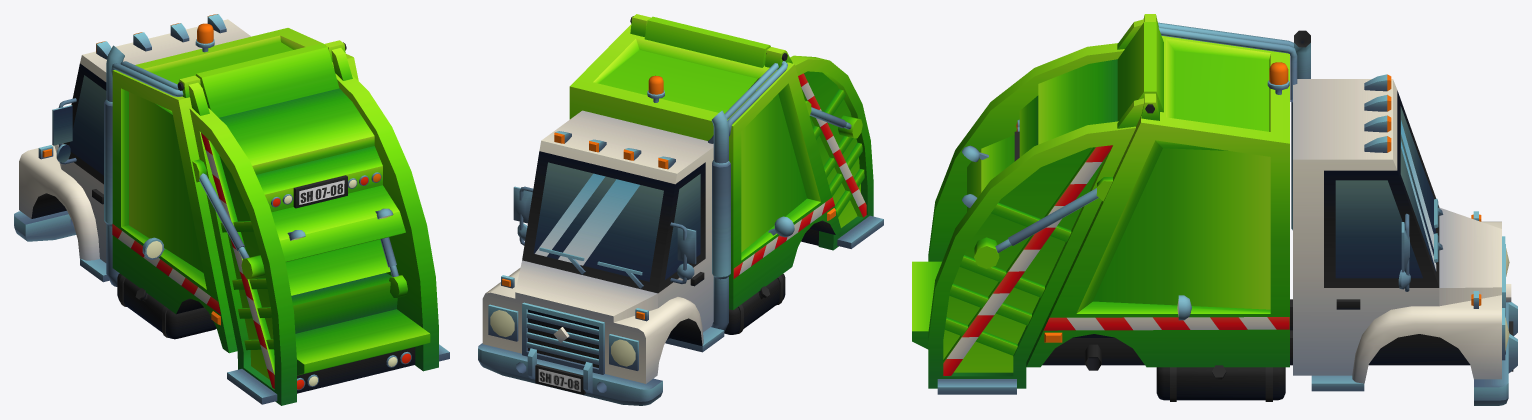
The model's file is car18.glb.
3 views of the same model, side by side, from view 1: azimuth 30°, elevation 25°; view 2: azimuth 150°, elevation 25°; view 3: azimuth 270°, elevation 25° (orthographic). The views are drawn at different scales.
Visible parts, largest first — view 1: model_9; view 2: model_9; view 3: model_9.
Part boxes in pixels (left/top/right/bottom): model_9: left=14, top=14, right=449, bottom=405; model_9: left=478, top=14, right=883, bottom=405; model_9: left=912, top=14, right=1517, bottom=405.
Size of the model in its own units: 157 by 193 by 348.
Materials: 1 (1 with a texture image).
